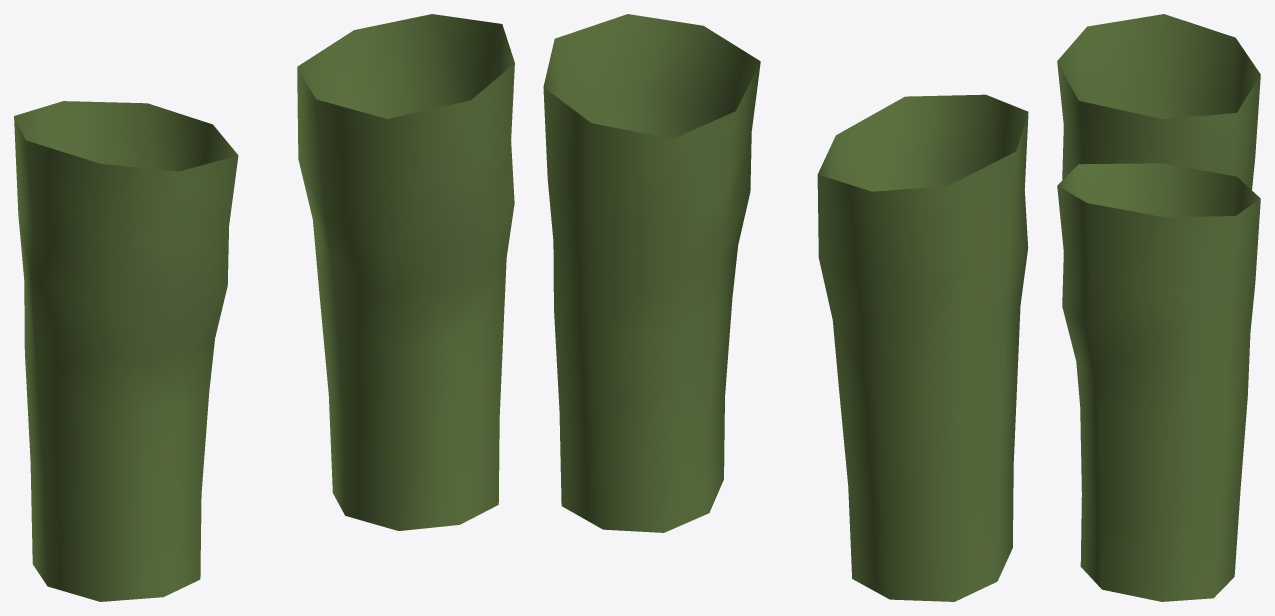
Rendered from Body_Green_LegB_2.fbx.
3 views of the same model, side by side, from view 1: azimuth 30°, elevation 25°; view 2: azimuth 150°, elevation 25°; view 3: azimuth 270°, elevation 25° (orthographic). The views are drawn at different scales.
Visible parts, largest first — view 1: Body_Green_LegB_2; view 2: Body_Green_LegB_2; view 3: Body_Green_LegB_2.
Part boxes in pixels (x1=…): Body_Green_LegB_2: x1=14, y1=14, x2=514, y2=601; Body_Green_LegB_2: x1=543, y1=14, x2=1028, y2=601; Body_Green_LegB_2: x1=1057, y1=14, x2=1260, y2=601.
Bounding box in the file's own units: 32.69 × 29.91 × 13.84.
